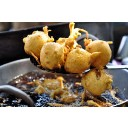bonda: (23, 27, 50, 56), (39, 42, 66, 70), (83, 70, 113, 95), (87, 38, 111, 69), (67, 47, 95, 73)
